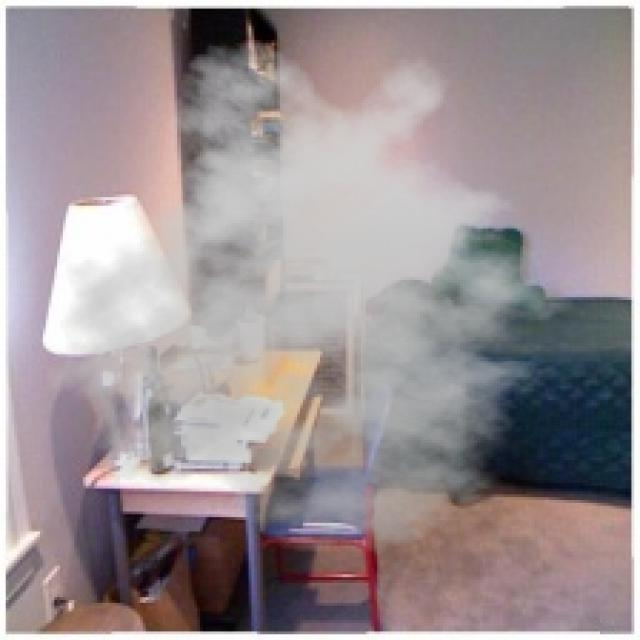Smoke: (31, 37, 600, 554)
